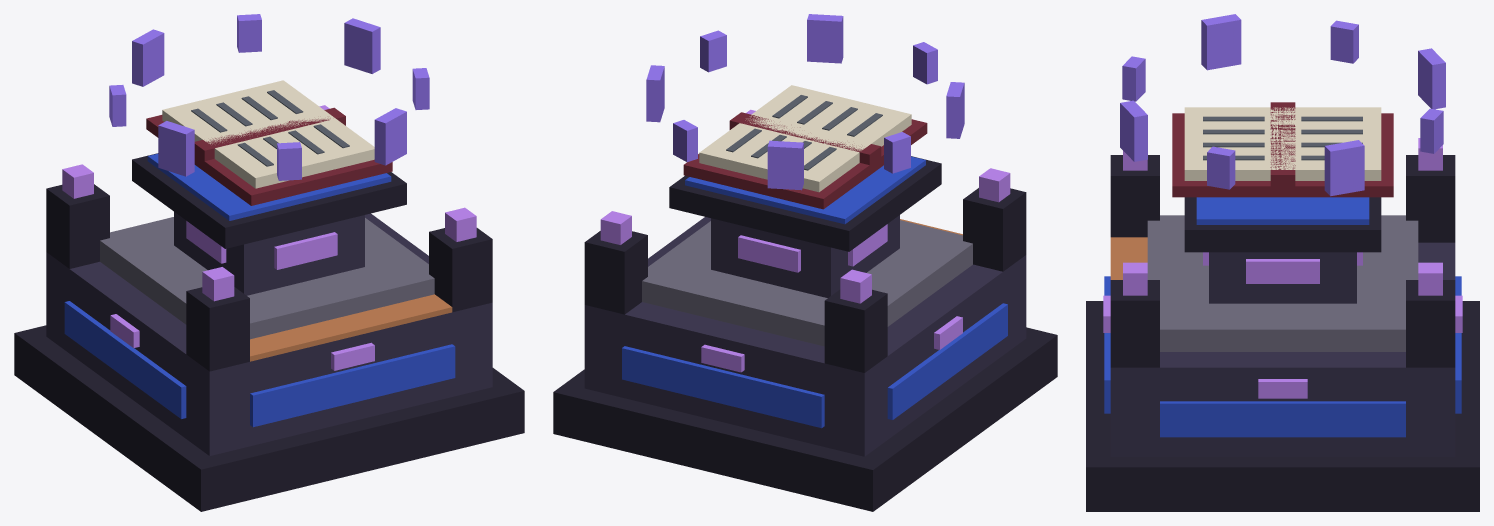
File: enchanter.glb
The picture shows the model from 3 angles, left to right: view 1: azimuth 30°, elevation 25°; view 2: azimuth 150°, elevation 25°; view 3: azimuth 270°, elevation 25°; orthographic projection. The views are drawn at different scales.
Parts seen in each view (by area): view 1: body.053, ring, page_l, page_r, tier.028, book; view 2: body.053, ring, page_r, page_l, book; view 3: body.053, ring, page_l, page_r, book, tier.028.
Boxes of the visible parts, left/top/right/bottom form: body.053: left=14, top=105, right=524, bottom=511; ring: left=109, top=14, right=429, bottom=180; page_l: left=199, top=114, right=392, bottom=205; page_r: left=146, top=80, right=329, bottom=165; tier.028: left=250, top=294, right=452, bottom=361; book: left=194, top=107, right=345, bottom=171; body.053: left=553, top=109, right=1057, bottom=511; ring: left=646, top=14, right=964, bottom=190; page_r: left=683, top=119, right=875, bottom=209; page_l: left=746, top=85, right=927, bottom=171; book: left=729, top=112, right=881, bottom=164; body.053: left=1086, top=138, right=1479, bottom=511; ring: left=1120, top=14, right=1445, bottom=196; page_l: left=1172, top=107, right=1282, bottom=197; page_r: left=1283, top=107, right=1393, bottom=197; book: left=1270, top=102, right=1295, bottom=197; tier.028: left=1110, top=237, right=1147, bottom=279.
Size of the model in its own units: 1 by 0.9688 by 1.
